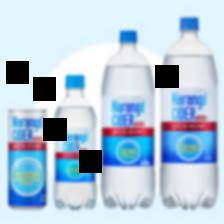narangdcider: (4, 108, 48, 211)
